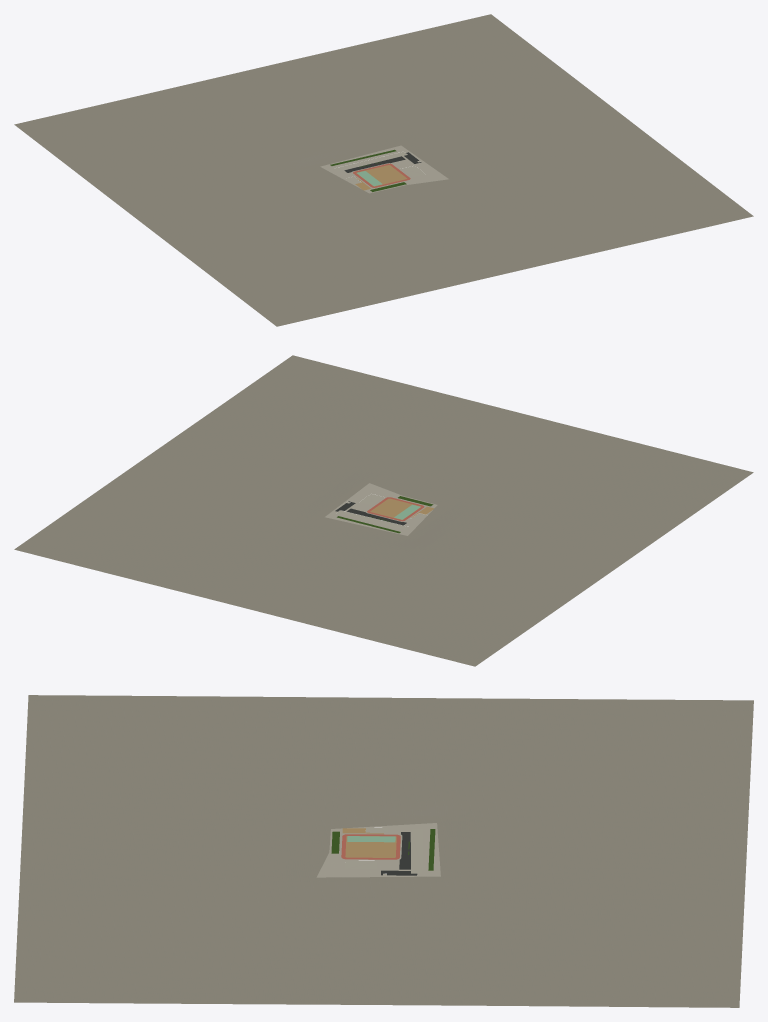
3 renders of one model, top to bottom at view 1: azimuth 30°, elevation 25°; view 2: azimuth 150°, elevation 25°; view 3: azimuth 270°, elevation 25°, orthographic. The views are drawn at different scales.
Visible parts, largest first — view 1: ground_context-estimated, surface_school-paved-walk; view 2: ground_context-estimated, surface_school-paved-walk; view 3: ground_context-estimated, surface_school-paved-walk, surface_sports-field, surface_underbuilding-main.
Boxes of the visible parts, x1=… form: ground_context-estimated: x1=14, y1=14, x2=753, y2=326; surface_school-paved-walk: x1=320, y1=145, x2=448, y2=193; ground_context-estimated: x1=14, y1=355, x2=753, y2=666; surface_school-paved-walk: x1=325, y1=483, x2=437, y2=535; ground_context-estimated: x1=14, y1=695, x2=753, y2=1007; surface_school-paved-walk: x1=316, y1=823, x2=440, y2=877; surface_sports-field: x1=345, y1=836, x2=396, y2=857; surface_underbuilding-main: x1=410, y1=828, x2=422, y2=873.
Bounding box in the file's own units: 734 × 1.86 × 734.
Materials: 7 (5 with a texture image).
